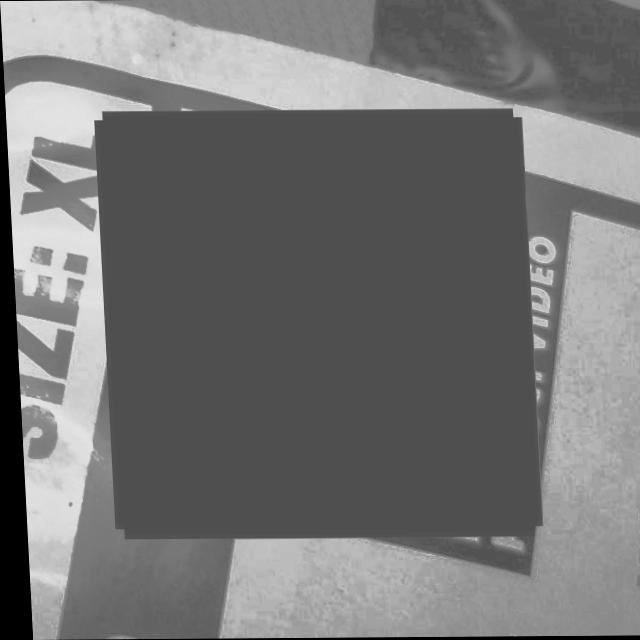qr_code: (97, 113, 534, 533)
